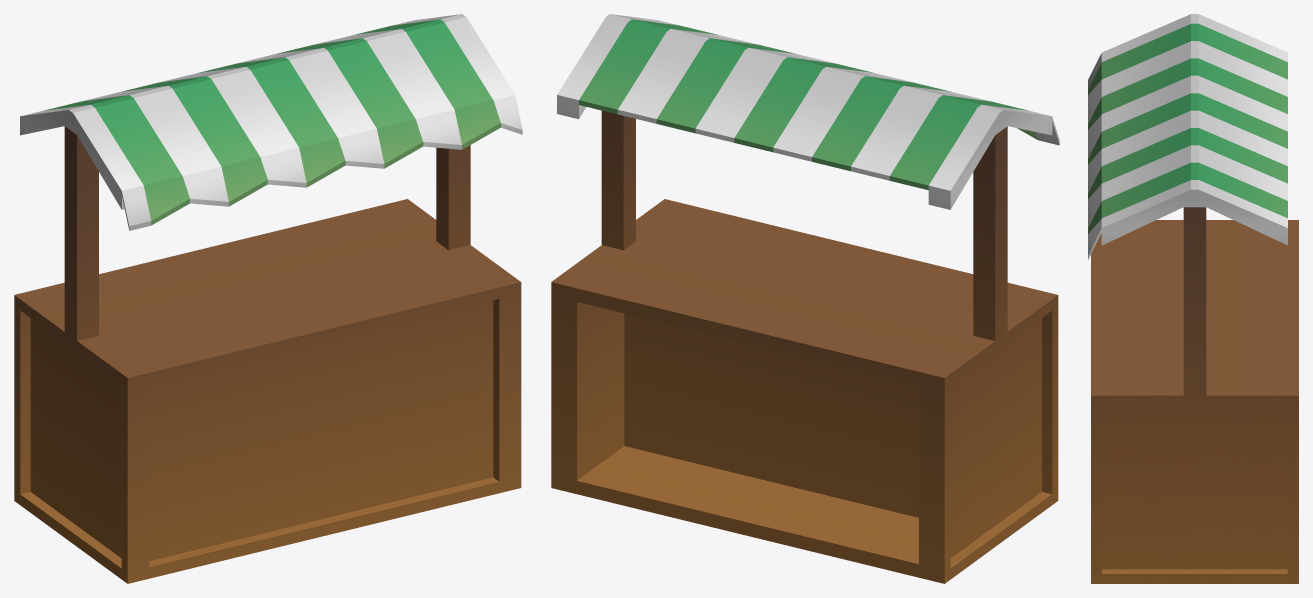
Rendered from marketStall3.fbx.
The picture shows the model from 3 angles, left to right: view 1: azimuth 30°, elevation 25°; view 2: azimuth 150°, elevation 25°; view 3: azimuth 270°, elevation 25°; orthographic projection. The views are drawn at different scales.
Parts seen in each view (by area): view 1: Cube; view 2: Cube; view 3: Cube.
Boxes of the visible parts, x1=… form: Cube: x1=14, y1=14, x2=522, y2=583; Cube: x1=551, y1=14, x2=1059, y2=583; Cube: x1=1088, y1=14, x2=1298, y2=583.
Size of the model in its own units: 152 by 77.25 by 159.
